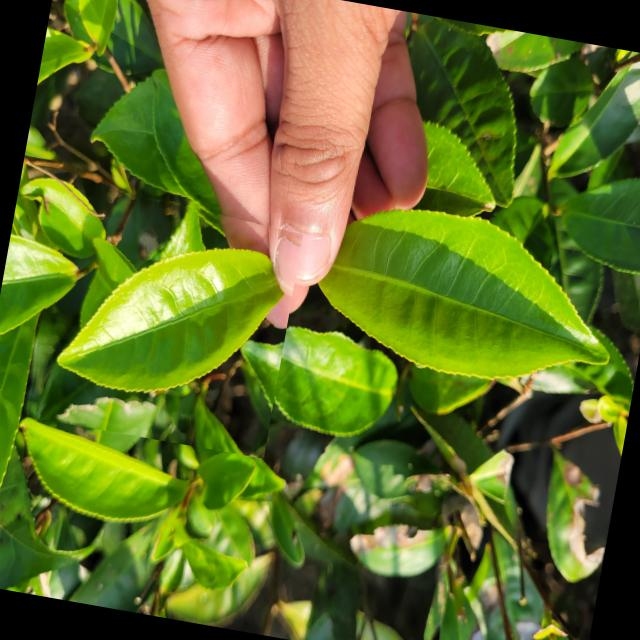Category B(2-4 days): (24, 176, 305, 458)
